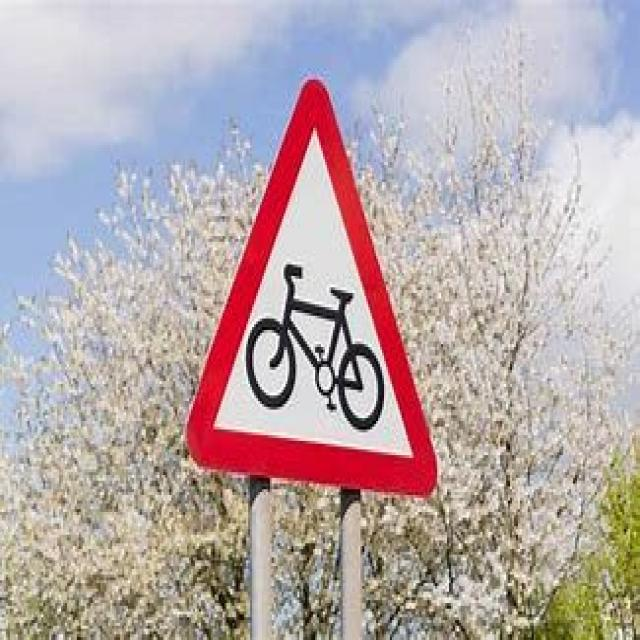CYCLE_CROSSING: (181, 77, 437, 495)
